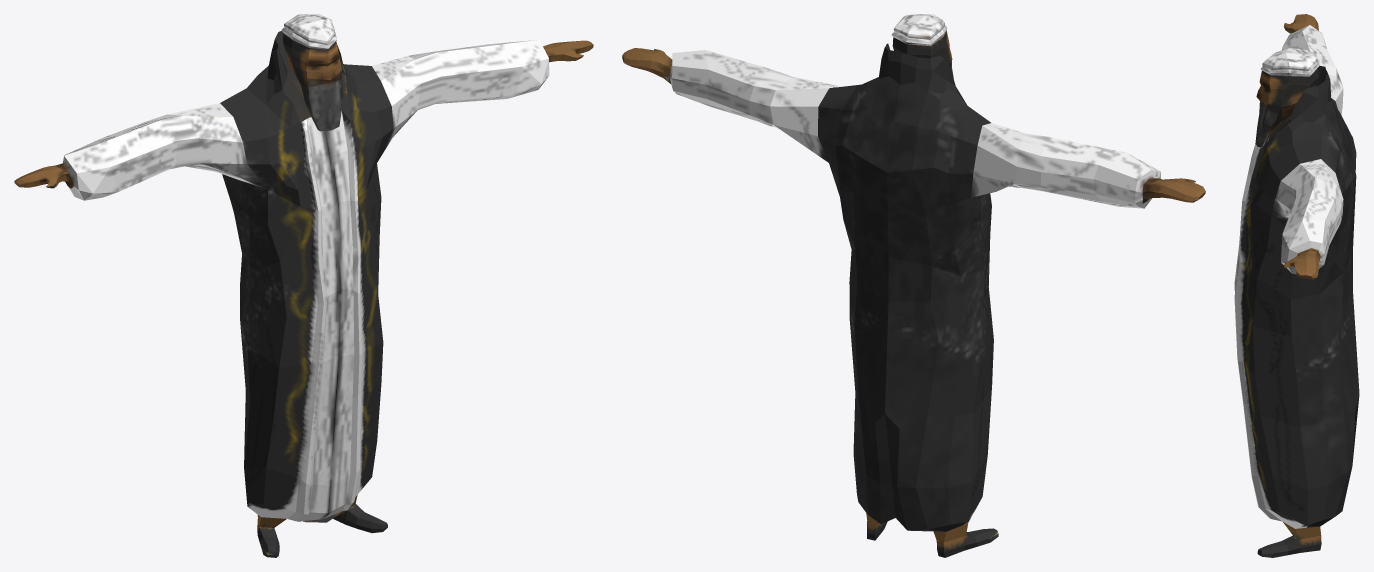
Rendered from said2.fbx.
3 renders of one model, left to right at view 1: azimuth 30°, elevation 25°; view 2: azimuth 150°, elevation 25°; view 3: azimuth 270°, elevation 25°, orthographic. The views are drawn at different scales.
Parts seen in each view (by area): view 1: Cube.001; view 2: Cube.001; view 3: Cube.001.
Boxes of the visible parts, x1,y1,x2,y2 form: Cube.001: (14,14,593,557); Cube.001: (622,14,1205,557); Cube.001: (1234,14,1359,557).
Bounding box in the file's own units: 205 × 176 × 41.55.
